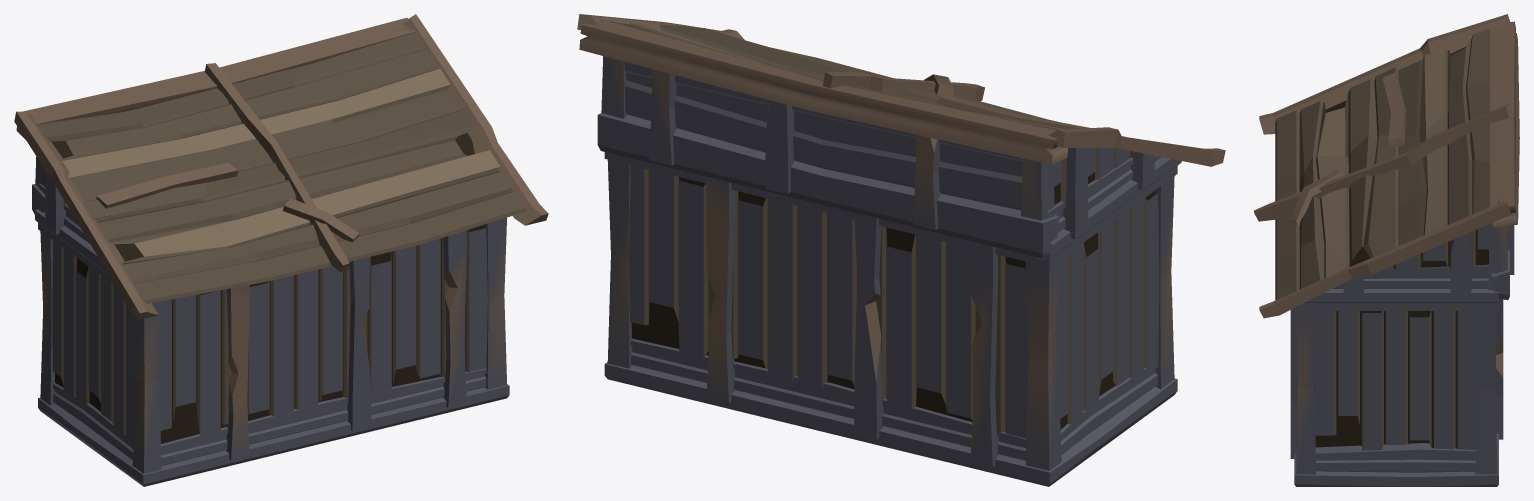
File: SM_Bld_Shanty_SideAttachment_01.glb
3 views of the same model, side by side, from view 1: azimuth 30°, elevation 25°; view 2: azimuth 150°, elevation 25°; view 3: azimuth 270°, elevation 25° (orthographic). The views are drawn at different scales.
Visible parts, largest first — view 1: SM_Bld_Shanty_SideAttachment_01; view 2: SM_Bld_Shanty_SideAttachment_01; view 3: SM_Bld_Shanty_SideAttachment_01.
Part boxes in pixels (left/top/right/bottom): SM_Bld_Shanty_SideAttachment_01: left=14, top=14, right=548, bottom=486; SM_Bld_Shanty_SideAttachment_01: left=577, top=14, right=1225, bottom=486; SM_Bld_Shanty_SideAttachment_01: left=1254, top=14, right=1519, bottom=486.
Size of the model in its own units: 0.0558 by 0.0393 by 0.0323.
